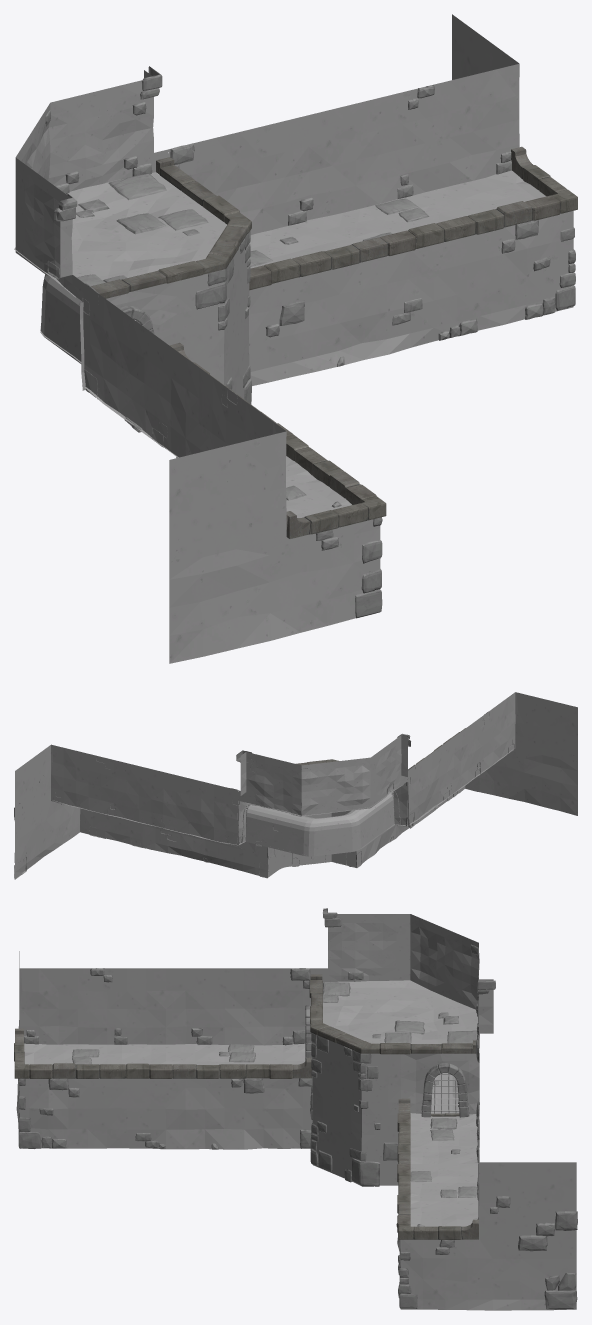
File: SM_ENV_KNVLLG_AreaA_Building_B_Wall.mo.fbx
3 renders of one model, top to bottom at view 1: azimuth 30°, elevation 25°; view 2: azimuth 150°, elevation 25°; view 3: azimuth 270°, elevation 25°, orthographic. The views are drawn at different scales.
Parts seen in each view (by area): view 1: SM_ENV_KNVLLG_AreaA_Building_B_Wall.mo; view 2: SM_ENV_KNVLLG_AreaA_Building_B_Wall.mo; view 3: SM_ENV_KNVLLG_AreaA_Building_B_Wall.mo.
Part boxes in pixels (x1,y1,x2,y2): SM_ENV_KNVLLG_AreaA_Building_B_Wall.mo: (14, 14, 577, 663); SM_ENV_KNVLLG_AreaA_Building_B_Wall.mo: (14, 692, 577, 879); SM_ENV_KNVLLG_AreaA_Building_B_Wall.mo: (14, 908, 577, 1310).
Bounding box in the file's own units: 57.33 × 23.02 × 57.69.
